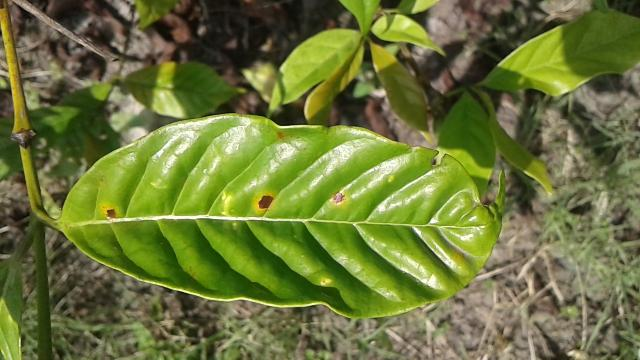rust_level_2: (62, 115, 502, 318)
